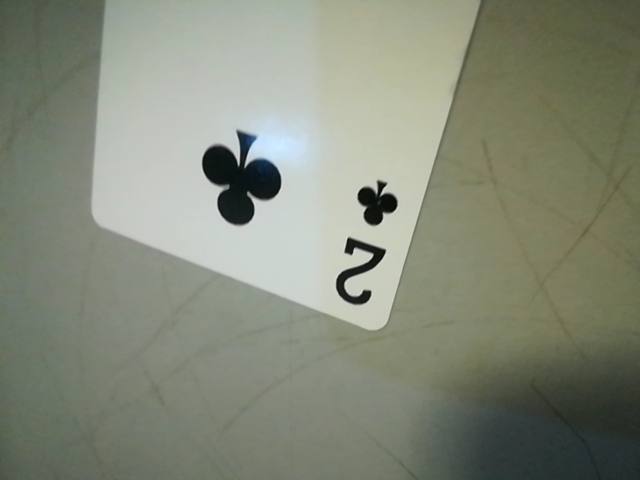mh 2: (324, 161, 407, 321)
